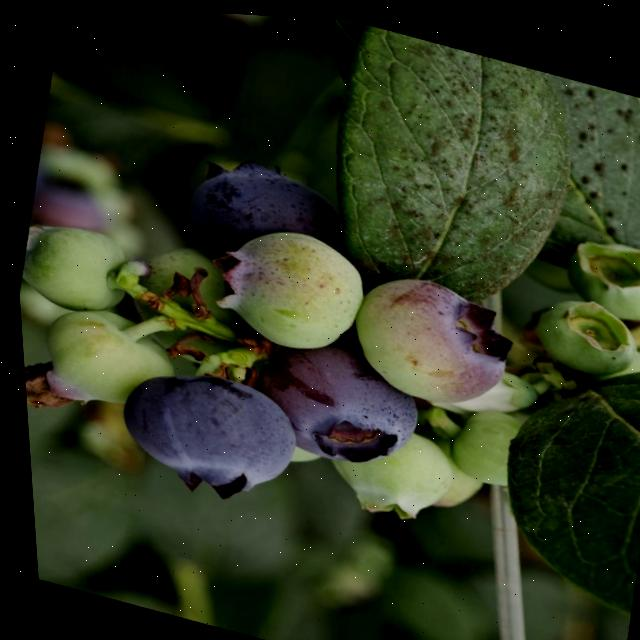RipeBlueBerry: (99, 347, 306, 511), (244, 321, 428, 479), (169, 140, 350, 280)
UnripeBlueBerry: (336, 256, 519, 417), (198, 207, 375, 363), (20, 293, 178, 422), (319, 408, 457, 526), (11, 213, 139, 324), (517, 278, 637, 375), (549, 220, 640, 321)
